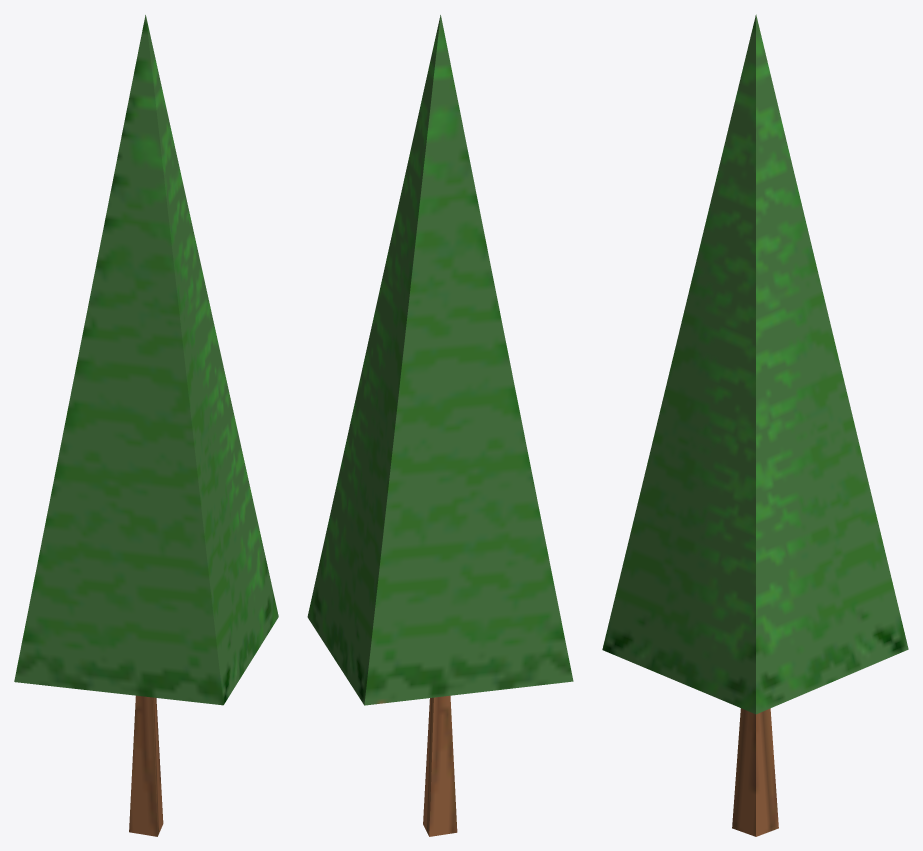
The model's file is Tree2.glb.
3 renders of one model, left to right at view 1: azimuth 30°, elevation 25°; view 2: azimuth 150°, elevation 25°; view 3: azimuth 270°, elevation 25°, orthographic.
Visible parts, largest first — view 1: Tree2; view 2: Tree2; view 3: Tree2.
Part boxes in pixels (x1,y1,x2,y2): Tree2: [14, 15, 278, 836]; Tree2: [307, 15, 573, 836]; Tree2: [602, 14, 908, 836].
Bounding box in the file's own units: 115 × 337 × 115.
Materials: 1 (1 with a texture image).
